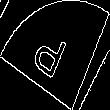P_SW: (34, 24, 76, 86)
